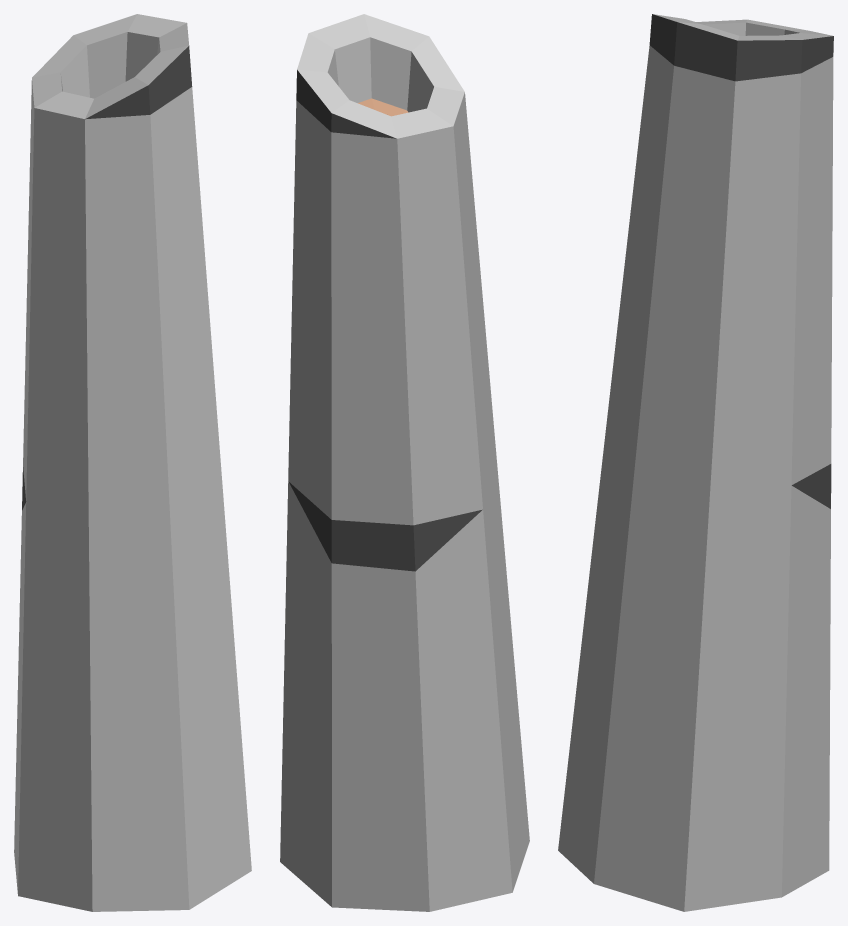
The model's file is mesh_stump_birch_02.fbx.
3 renders of one model, left to right at view 1: azimuth 30°, elevation 25°; view 2: azimuth 150°, elevation 25°; view 3: azimuth 270°, elevation 25°, orthographic. The views are drawn at different scales.
Visible parts, largest first — view 1: mesh_stump_birch_02; view 2: mesh_stump_birch_02; view 3: mesh_stump_birch_02.
Part boxes in pixels (left/top/right/bottom): mesh_stump_birch_02: left=14, top=14, right=251, bottom=911; mesh_stump_birch_02: left=280, top=14, right=529, bottom=911; mesh_stump_birch_02: left=558, top=14, right=833, bottom=911.
Bounding box in the file's own units: 0.2764 × 0.9774 × 0.2812.
